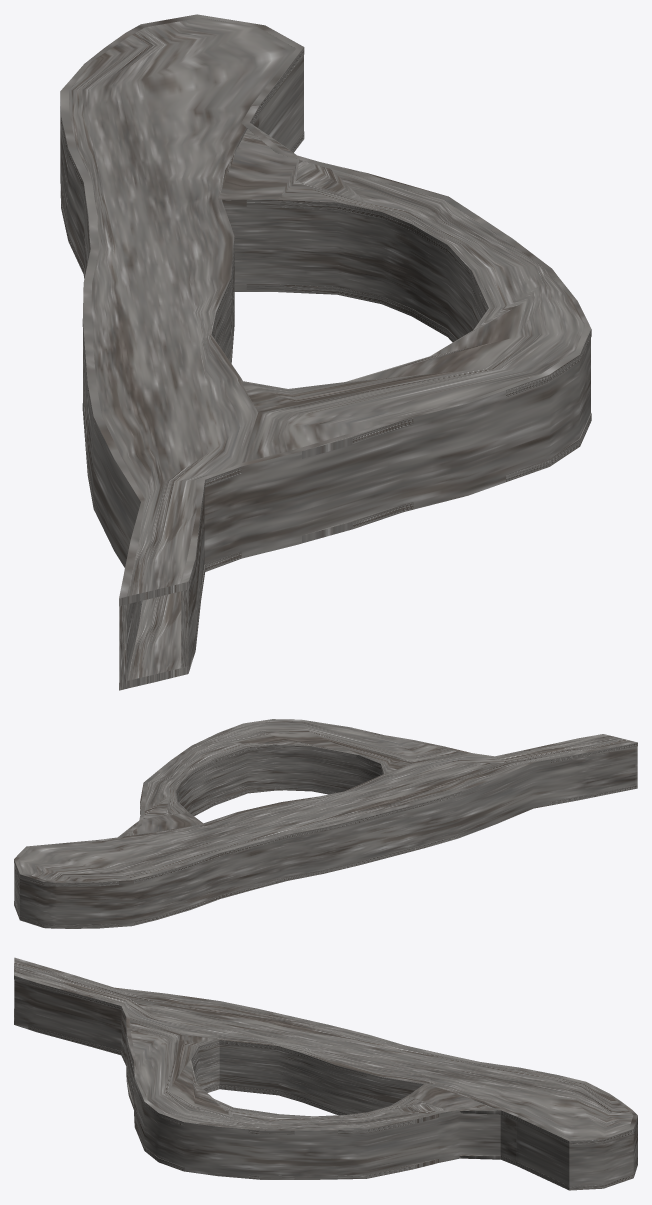
File: ハリボテ洞窟 1.fbx
3 renders of one model, top to bottom at view 1: azimuth 30°, elevation 25°; view 2: azimuth 150°, elevation 25°; view 3: azimuth 270°, elevation 25°, orthographic. The views are drawn at different scales.
Parts seen in each view (by area): view 1: 床手前↑, 床奥上, 奥壁, 中壁, 手前壁, 床手前↓, 床奥↓; view 2: 手前壁, 床手前↑, 床奥上, 中壁, 床手前↓, 奥壁, 床奥↓; view 3: 奥壁, 床手前↑, 床奥上, 中壁, 手前壁, 床手前↓, 床奥↓.
Boxes of the visible parts, box(x1,y1,x2,y2) form: 床手前↑: box(60, 14, 304, 606); 床奥上: box(218, 123, 591, 462); 奥壁: box(181, 105, 590, 673); 中壁: box(213, 200, 486, 362); 手前壁: box(60, 14, 303, 690); 床手前↓: box(60, 131, 304, 690); 床奥↓: box(234, 284, 591, 543); 手前壁: box(14, 741, 637, 926); 床手前↑: box(14, 735, 637, 886); 床奥上: box(118, 719, 467, 836); 中壁: box(176, 745, 382, 814); 床手前↓: box(14, 784, 637, 928); 奥壁: box(98, 719, 606, 841); 床奥↓: box(192, 787, 335, 816); 奥壁: box(14, 974, 518, 1179); 床手前↑: box(14, 959, 637, 1145); 床奥上: box(126, 1018, 500, 1134); 中壁: box(192, 1044, 423, 1114); 手前壁: box(14, 957, 637, 1186); 床手前↓: box(14, 1009, 637, 1190); 床奥↓: box(126, 1078, 500, 1179).
Size of the model in its own units: 482 by 60.33 by 692.
Materials: 1 (1 with a texture image).
